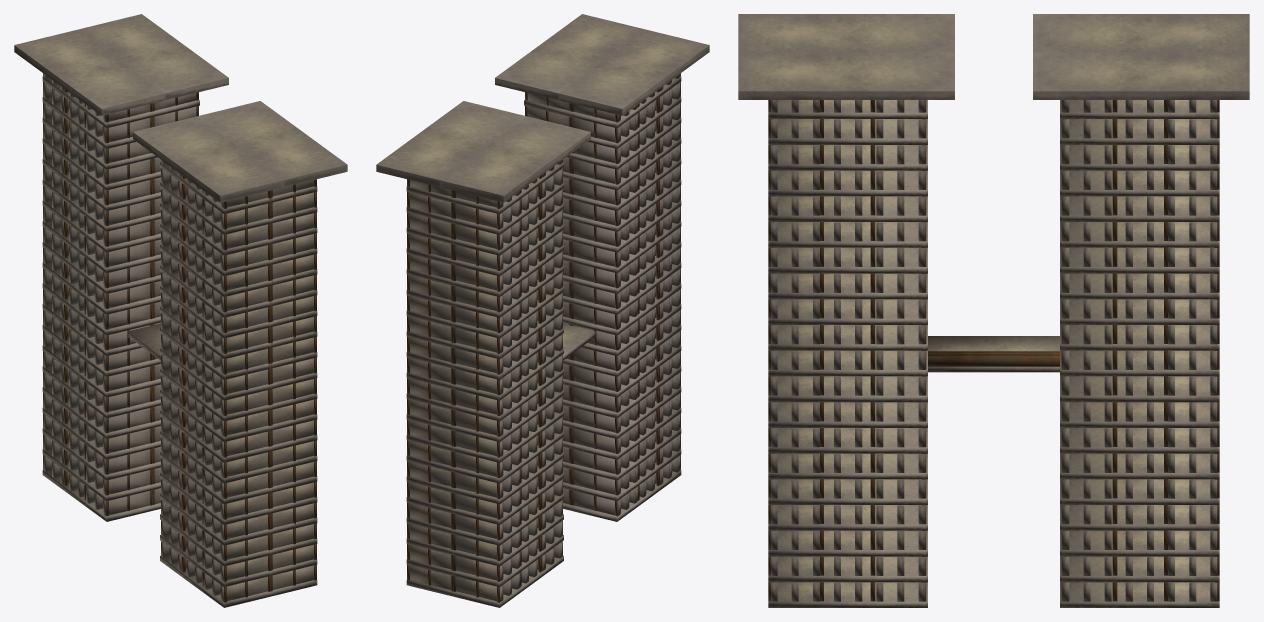
Rendered from Old High Building 3.fbx.
The picture shows the model from 3 angles, left to right: view 1: azimuth 30°, elevation 25°; view 2: azimuth 150°, elevation 25°; view 3: azimuth 270°, elevation 25°; orthographic projection. The views are drawn at different scales.
Visible parts, largest first — view 1: Them nha.017, thanh cua rir sets .057, Them nha.027; view 2: Them nha.017, thanh cua rir sets .057, Them nha.027; view 3: Them nha.017, thanh cua rir sets .057, Them nha.027.
Boxes of the visible parts, x1=… form: Them nha.017: x1=42, y1=73, x2=317, y2=607; thanh cua rir sets .057: x1=14, y1=14, x2=347, y2=202; Them nha.027: x1=128, y1=323, x2=160, y2=360; Them nha.017: x1=406, y1=73, x2=681, y2=607; thanh cua rir sets .057: x1=376, y1=14, x2=709, y2=202; Them nha.027: x1=563, y1=323, x2=595, y2=360; Them nha.017: x1=768, y1=100, x2=1219, y2=607; thanh cua rir sets .057: x1=738, y1=14, x2=1249, y2=99; Them nha.027: x1=928, y1=336, x2=1059, y2=372.
Bounding box in the file's own units: 1274 × 4059 × 3565.
